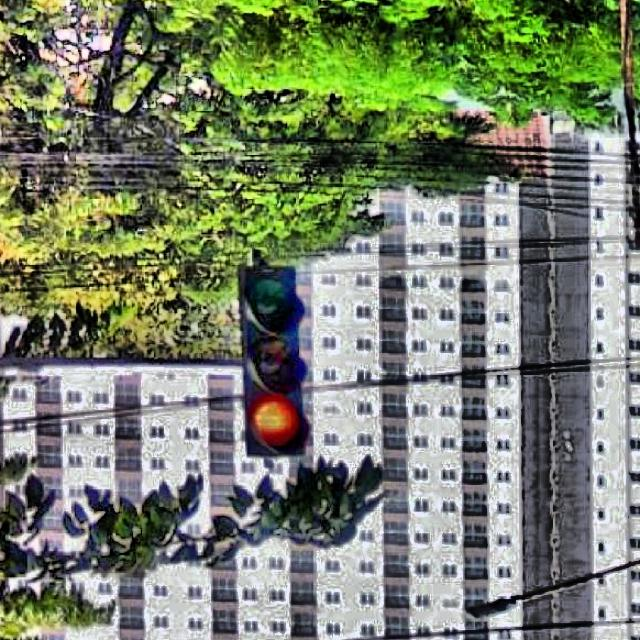red: (242, 266, 309, 454)
